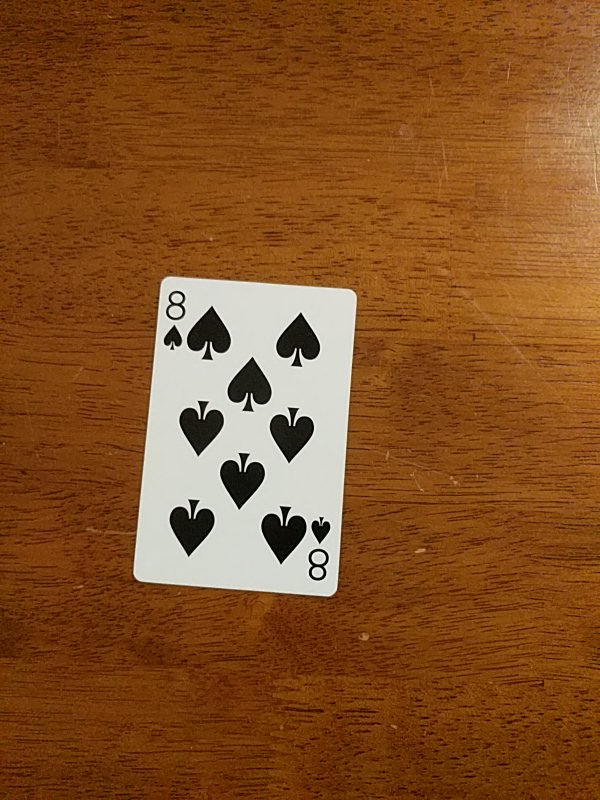Spades: (131, 274, 358, 600)
